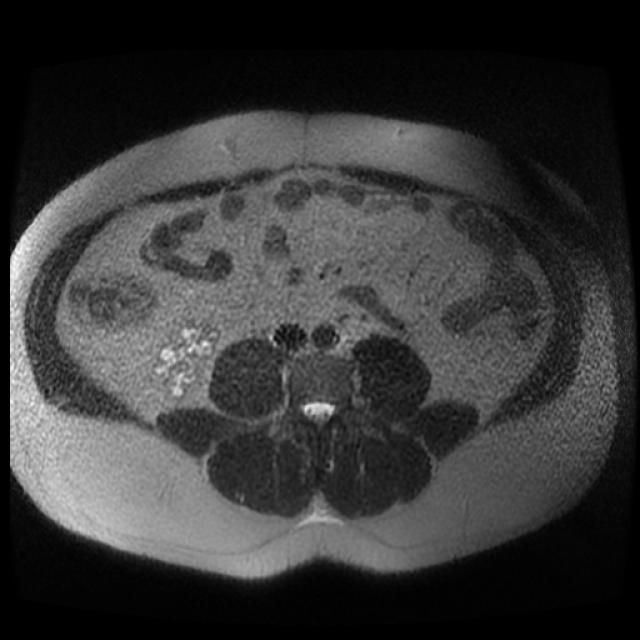sag: (153, 322, 223, 402)
